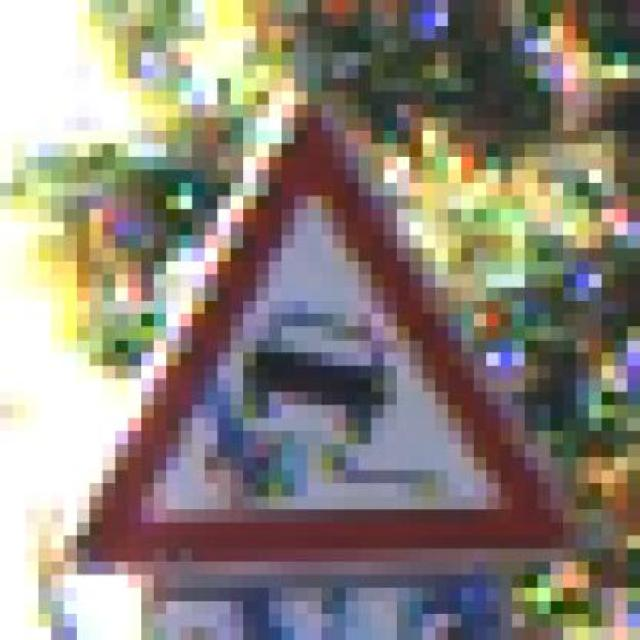Slippery Road Ahead: (64, 91, 576, 574)
